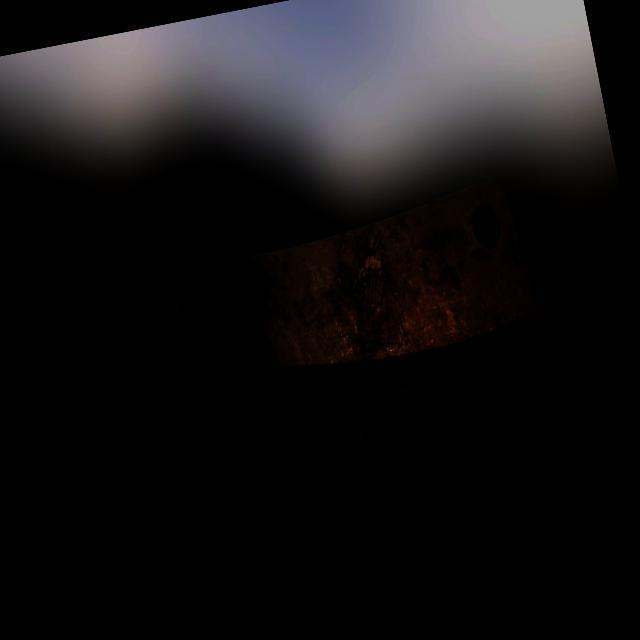cleaver: (87, 176, 552, 484)
